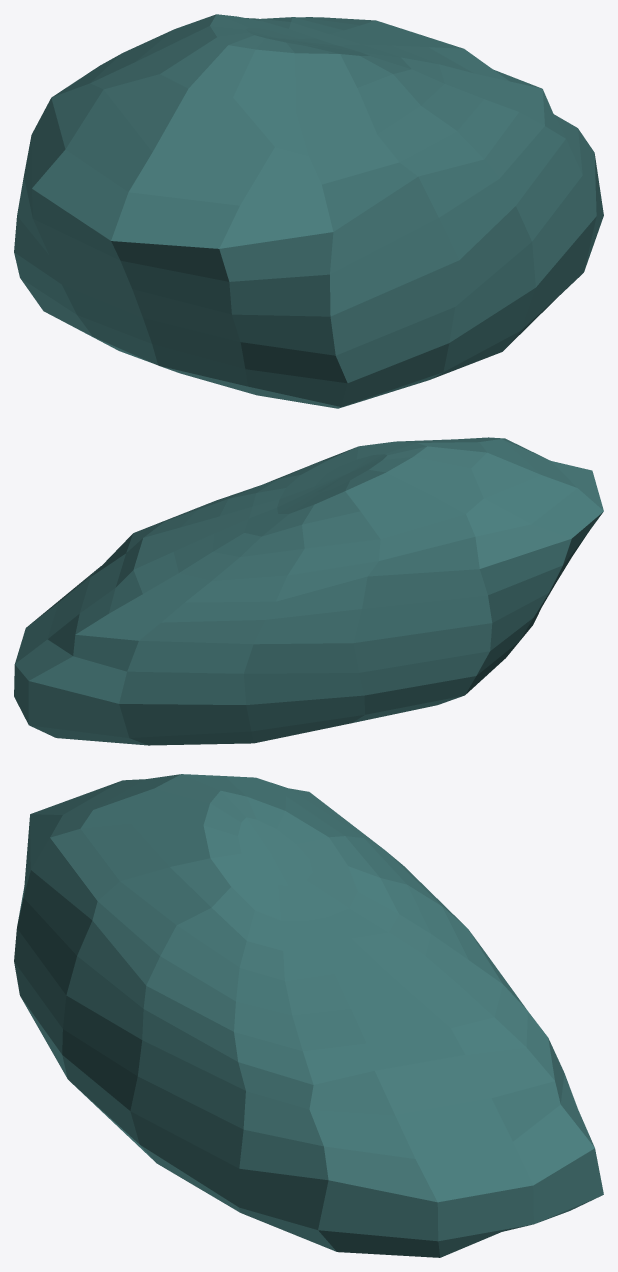
Rendered from rock4.fbx.
The picture shows the model from 3 angles, top to bottom: view 1: azimuth 30°, elevation 25°; view 2: azimuth 150°, elevation 25°; view 3: azimuth 270°, elevation 25°; orthographic projection. The views are drawn at different scales.
Parts seen in each view (by area): view 1: rock4:Mesh; view 2: rock4:Mesh; view 3: rock4:Mesh.
Boxes of the visible parts, x1,y1,x2,y2 form: rock4:Mesh: (14, 14, 603, 408); rock4:Mesh: (14, 437, 603, 745); rock4:Mesh: (14, 774, 603, 1257).
Size of the model in its own units: 1.02 by 0.5244 by 0.9664.
